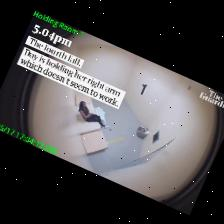person: (79, 101, 108, 128)
